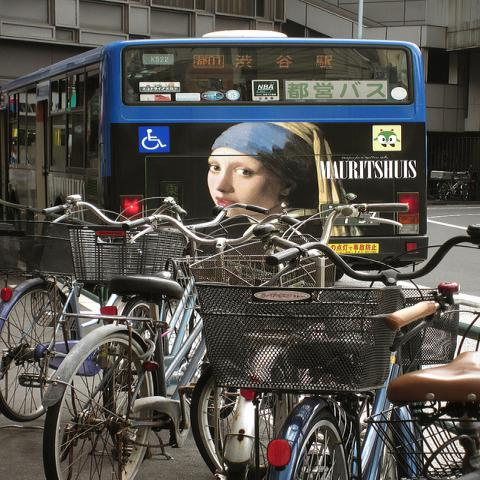bus: (0, 31, 429, 264)
